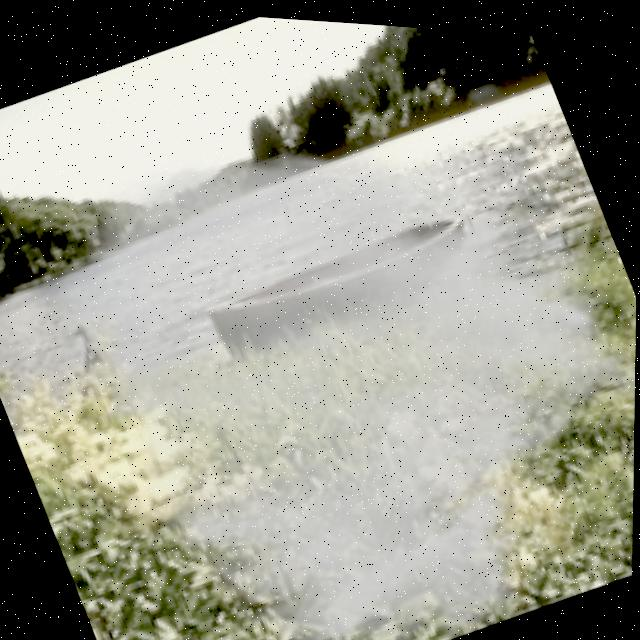Smoke: (0, 28, 637, 640)
